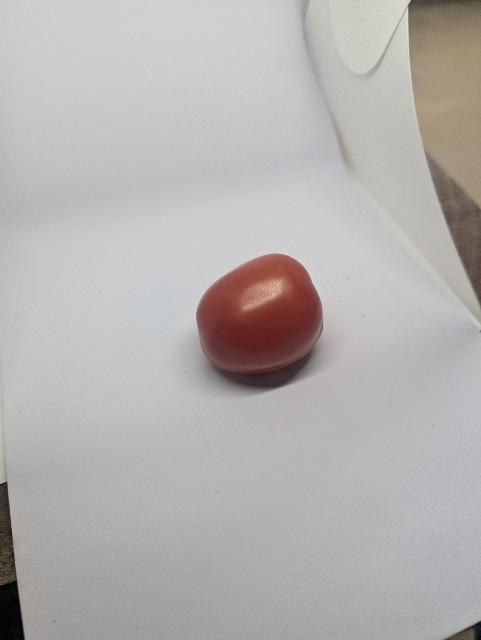red: (192, 245, 332, 415)
